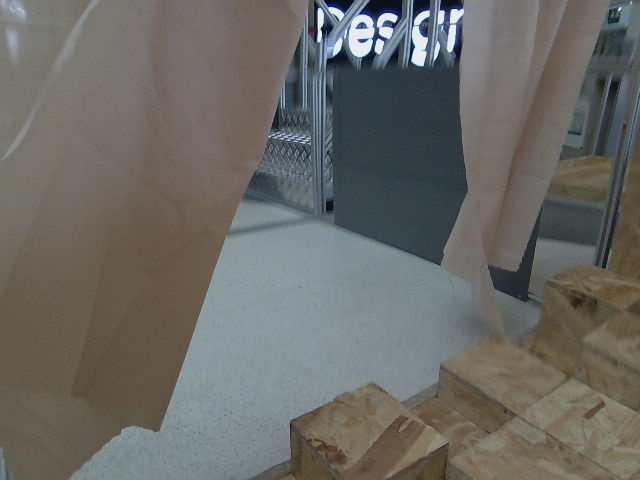curtain: (0, 0, 608, 432)
